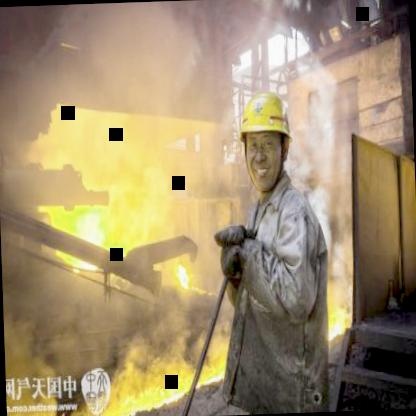helmet: (233, 83, 296, 196)
